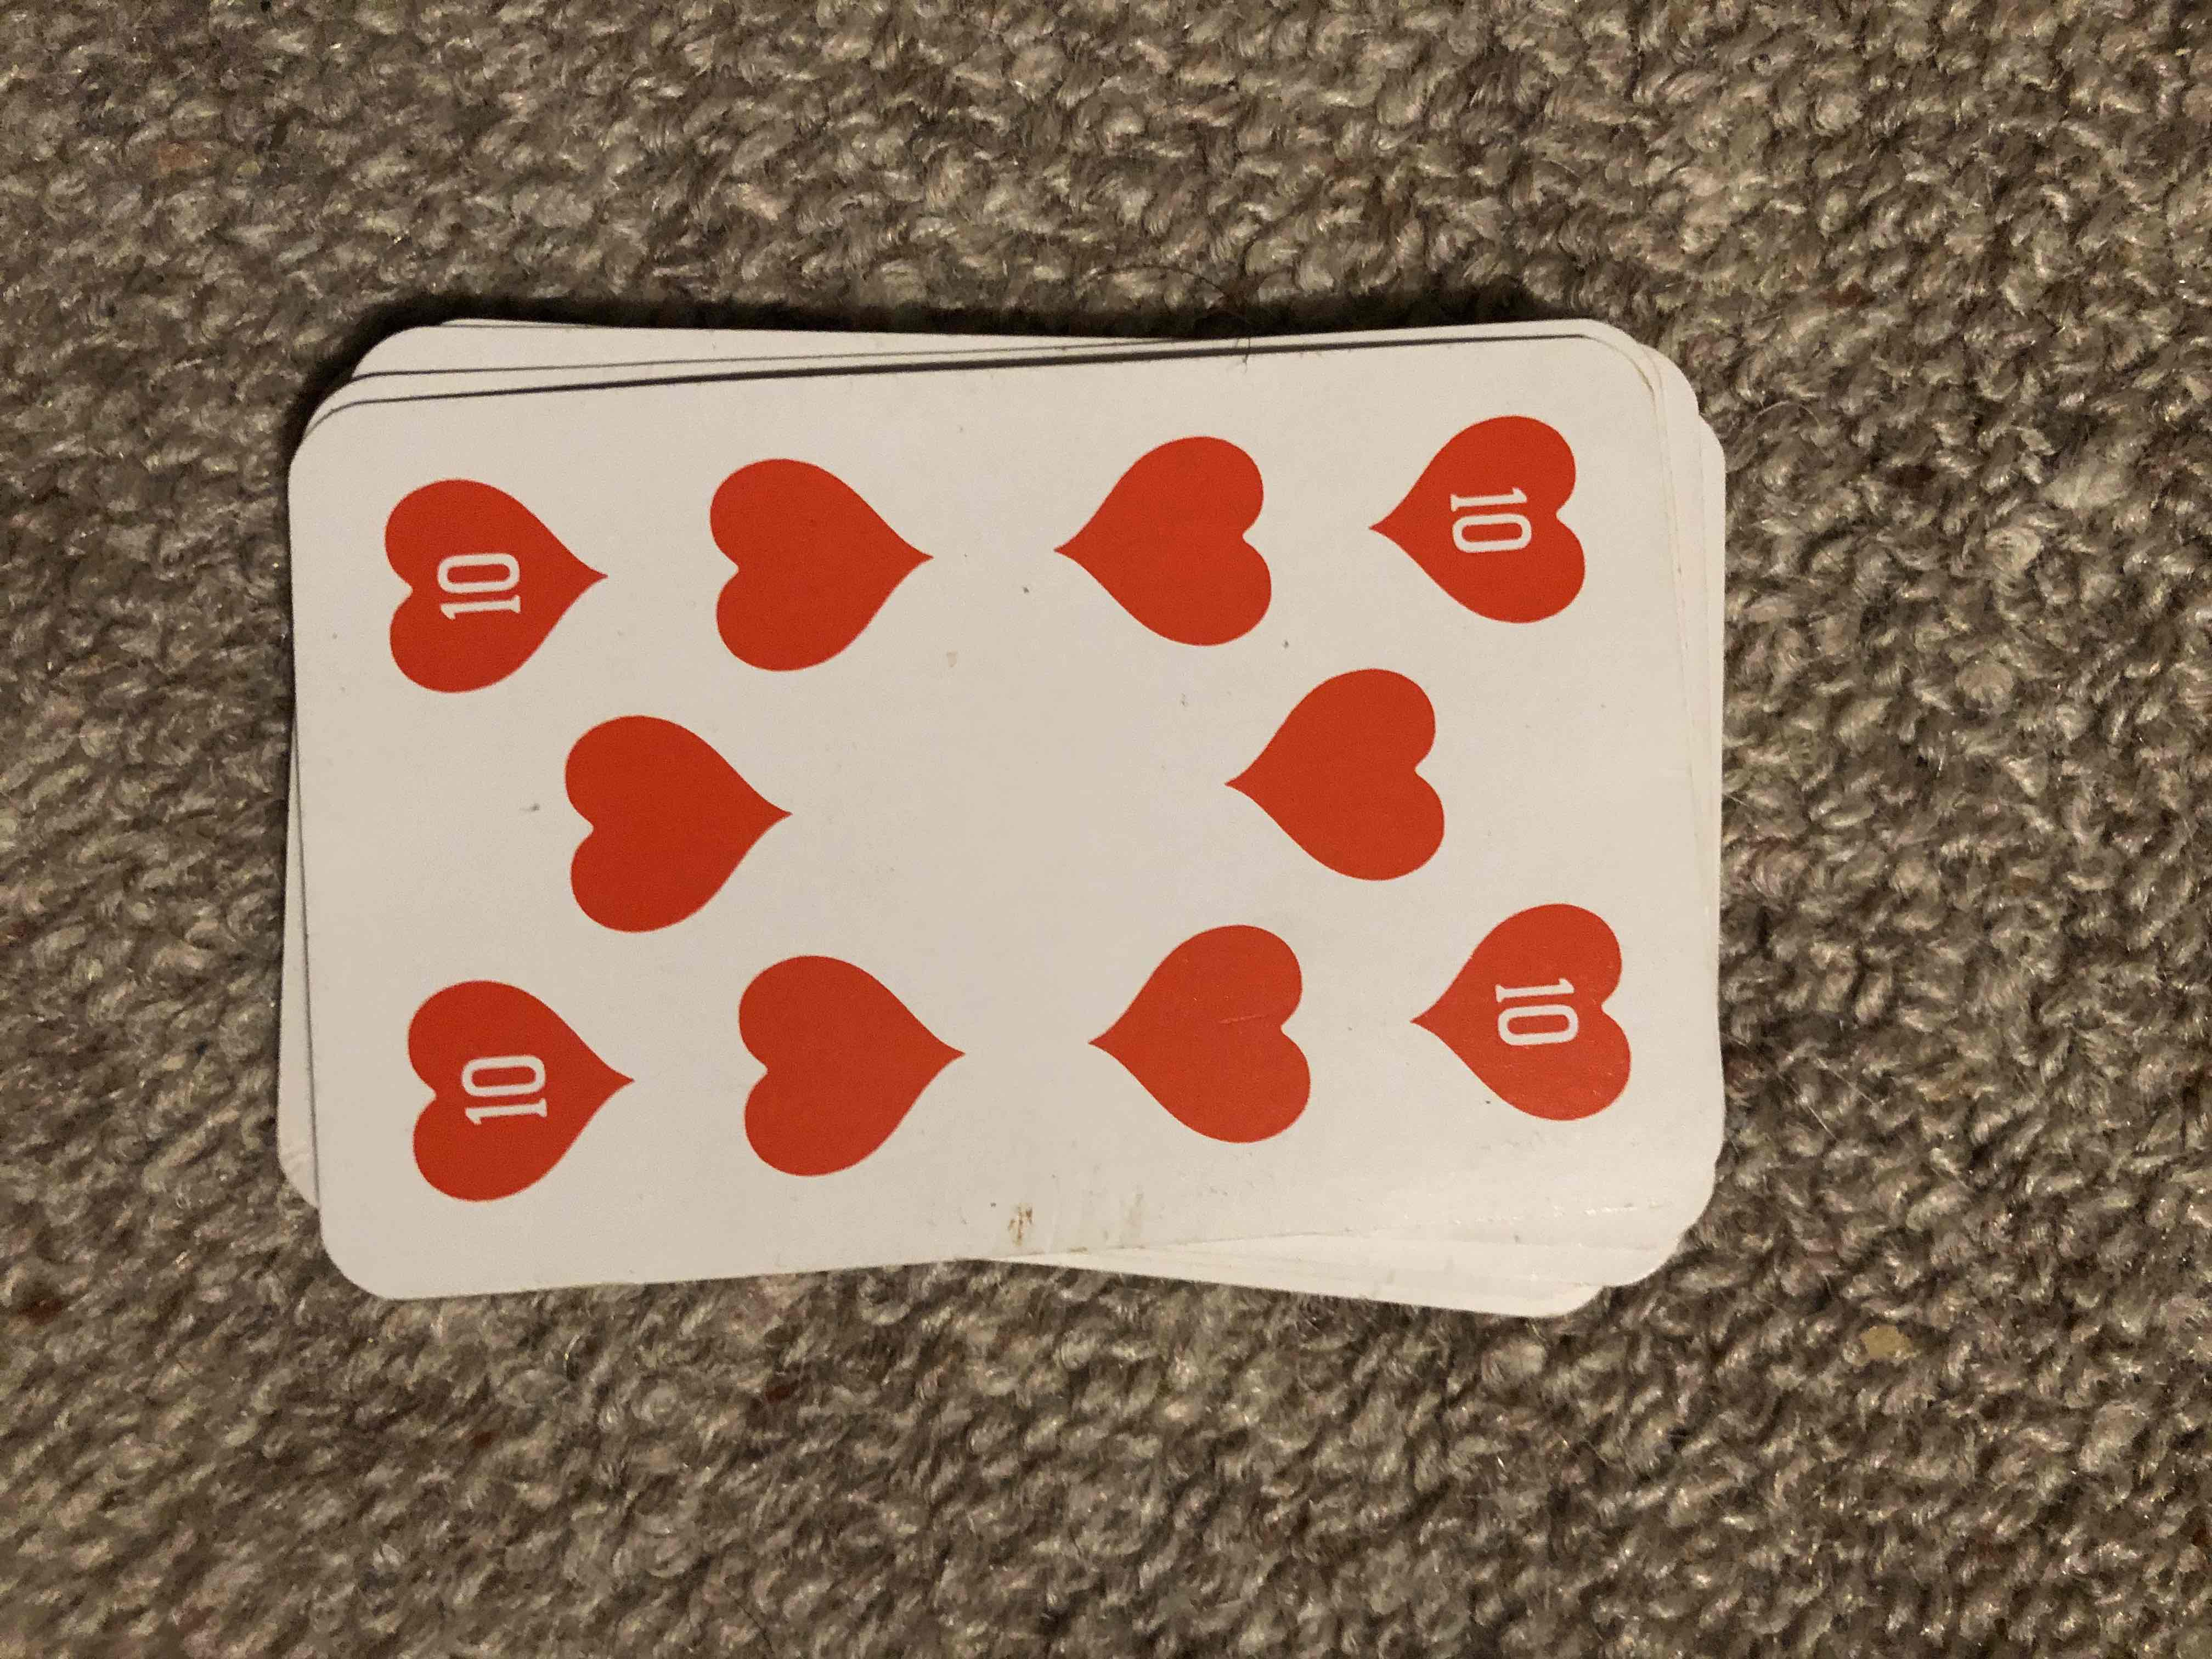hearts10: (320, 357, 1719, 1229)
